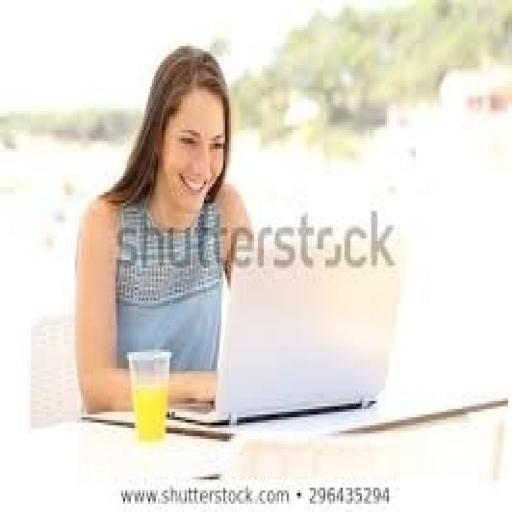using_laptop: (140, 273, 442, 439)
